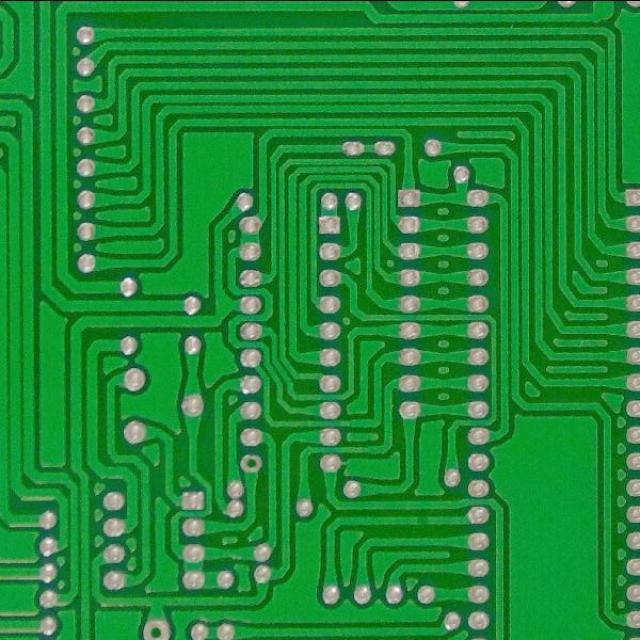Missing_Hole: (139, 617, 174, 640), (239, 452, 264, 475)
